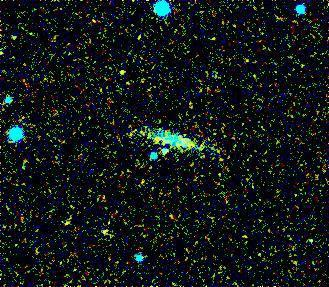star: (109, 58, 139, 88)
